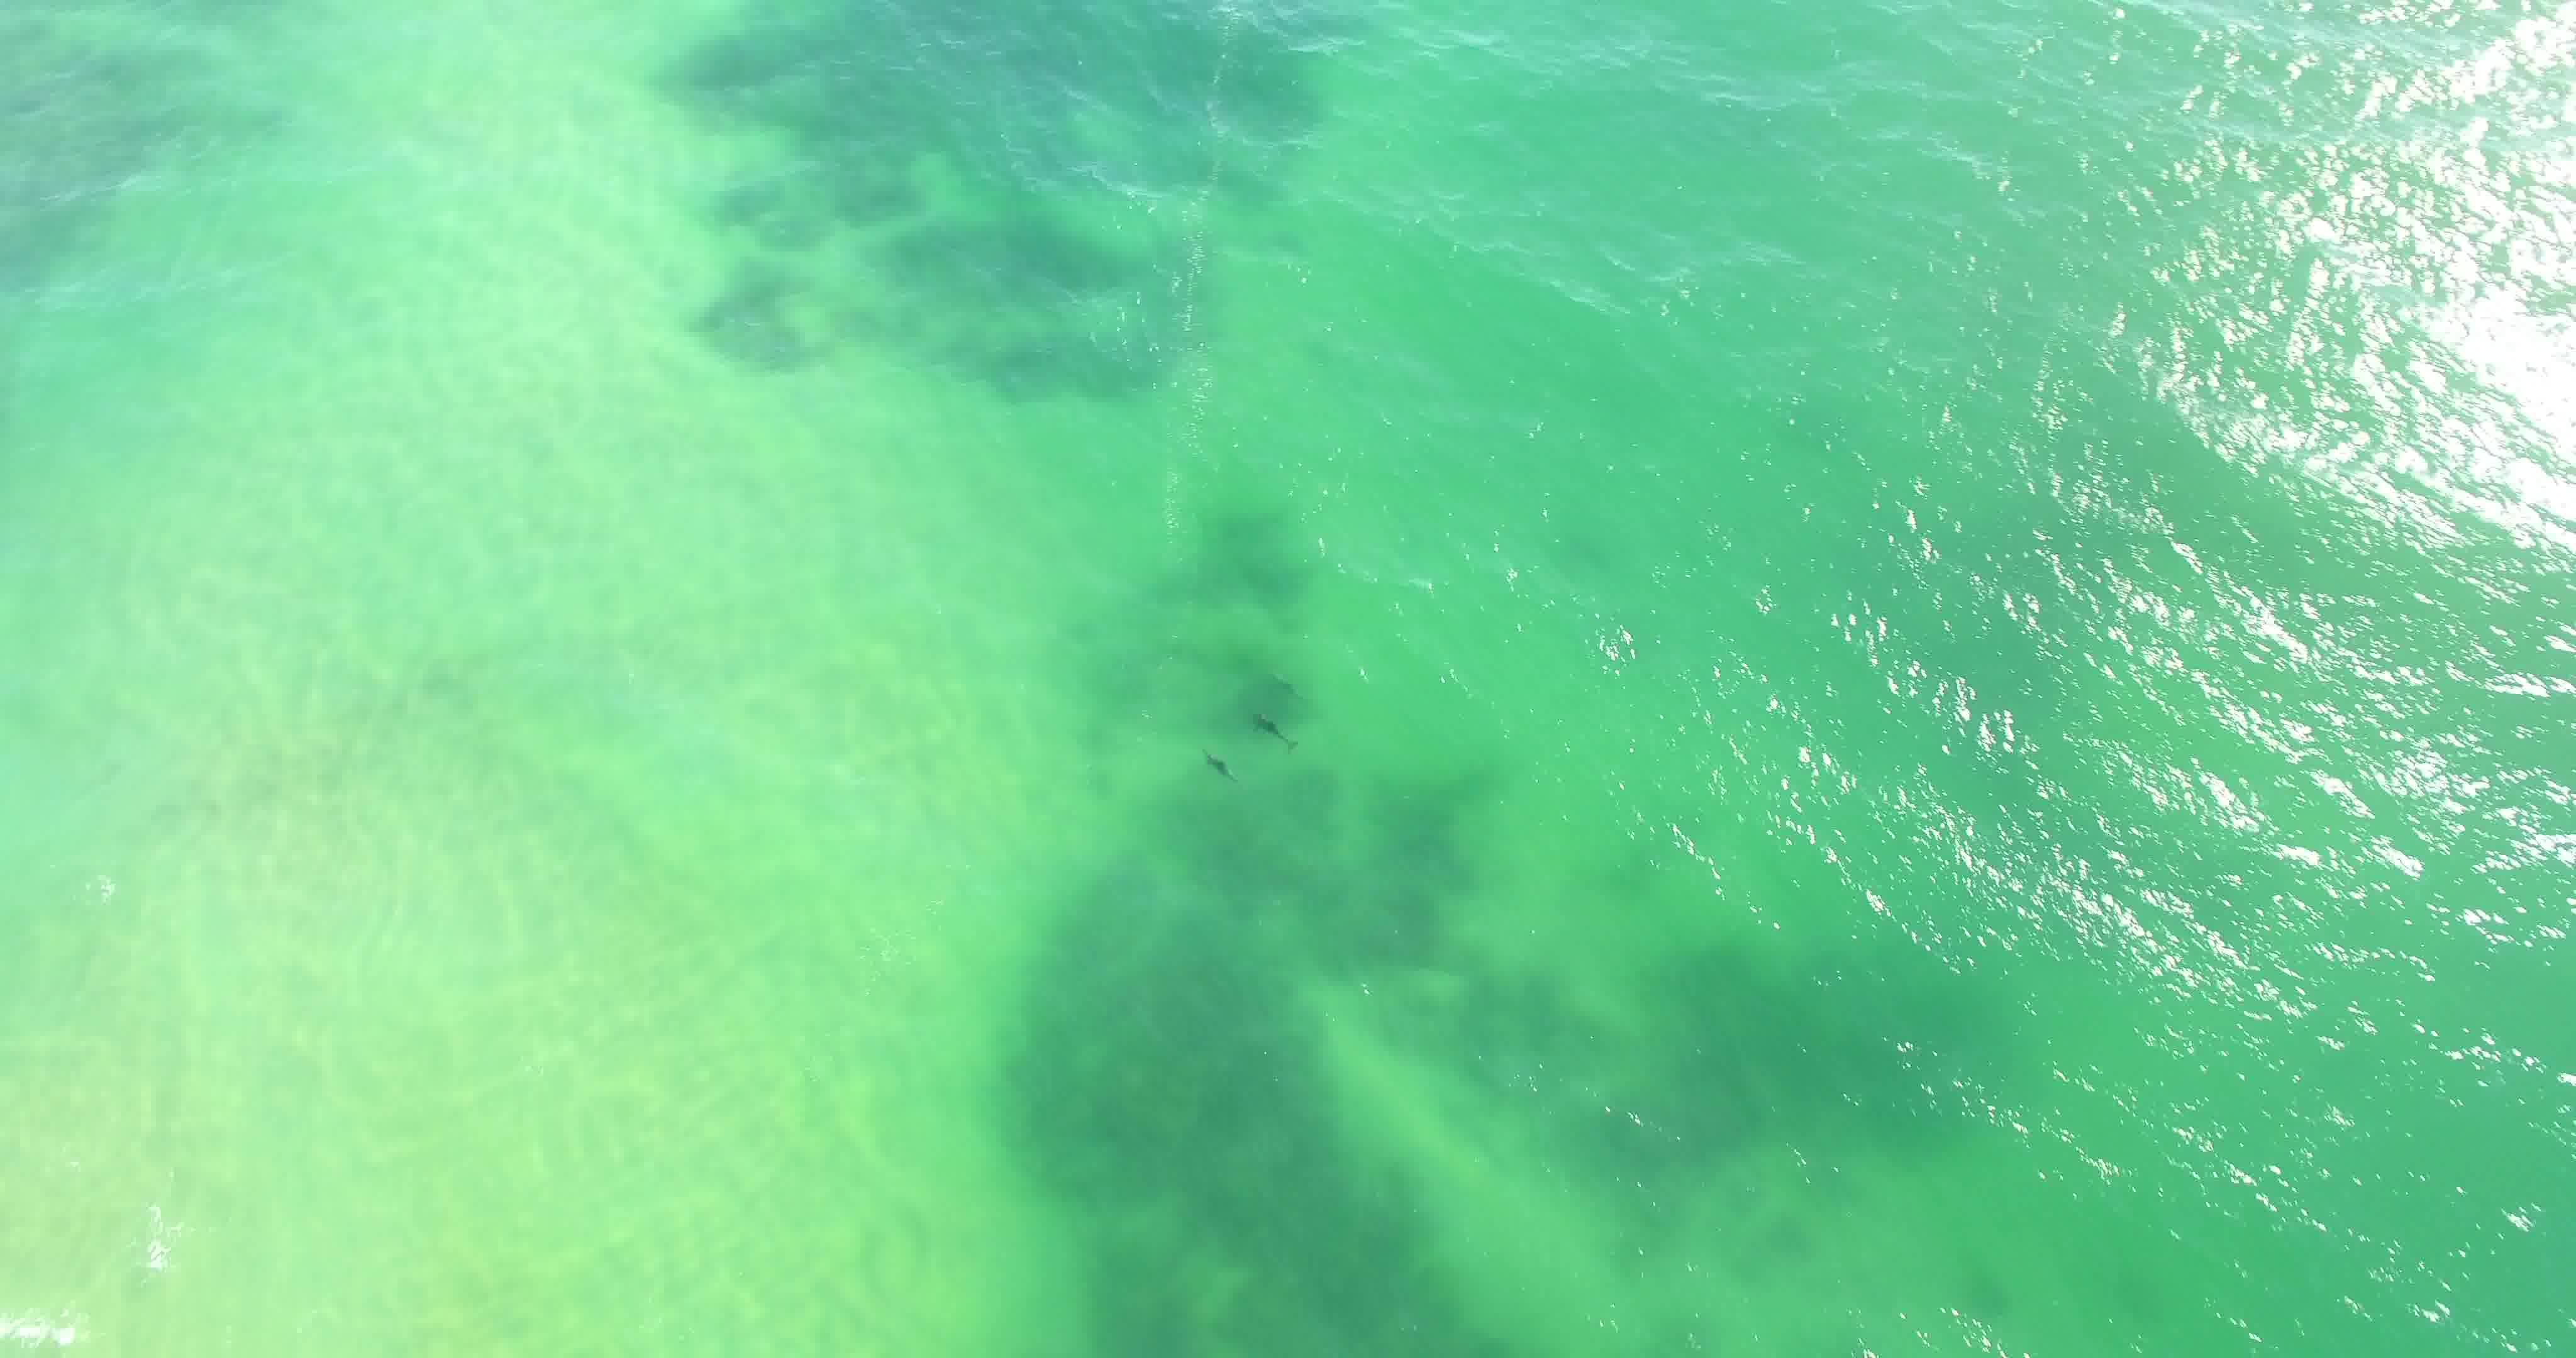dolphin: (1239, 693, 1303, 757), (1194, 741, 1244, 789)
